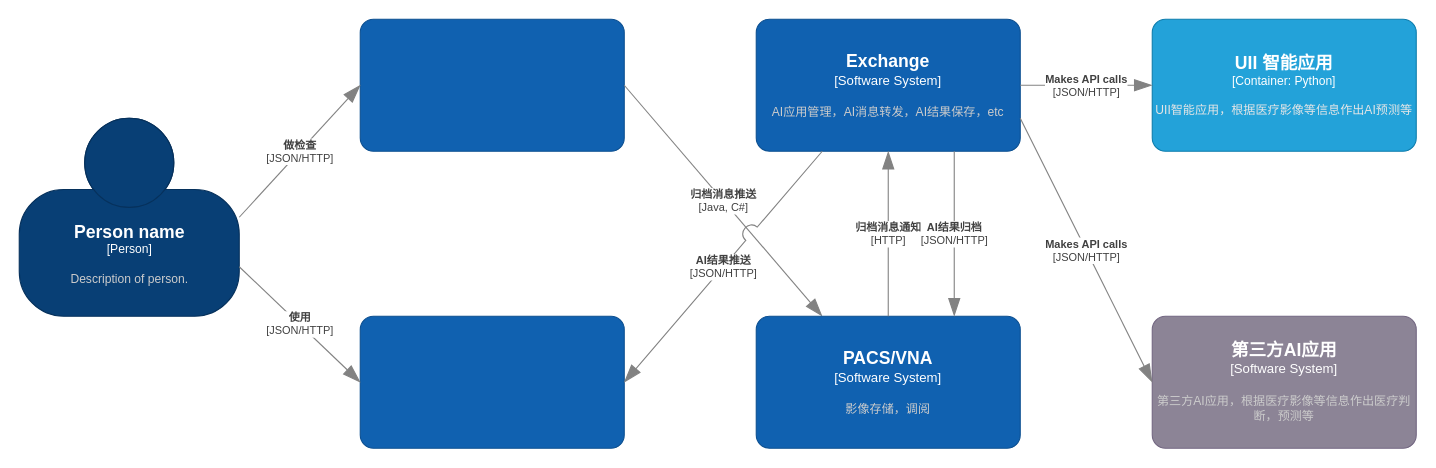
Image size: 1436x468. Some labels were removed from this diagram. The shapes that lost their labels are listed below. From the top down, each one's box as (x1, y1, x2, y2) in pixels, then its label:
(359, 18, 624, 151): HIS/RIS/LIS [Software System] 临床/科研管理系统
(359, 315, 624, 448): Meta Viewer [Software System] 影像浏览与交互，可集成高级应用，AI应用等
